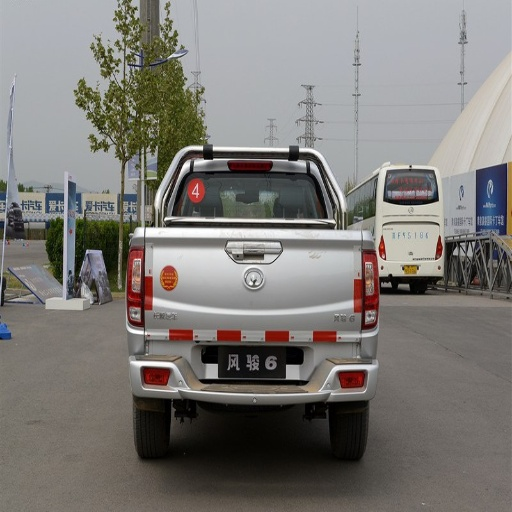back_bumper: (130, 331, 378, 406)
trunk: (133, 218, 366, 358)
